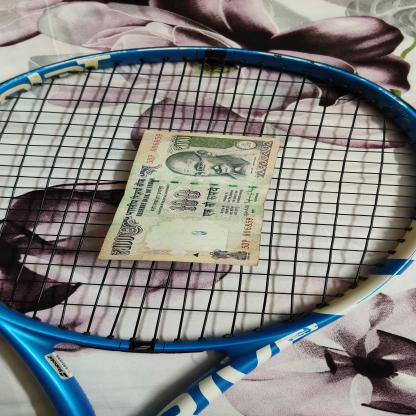Old100Front: (96, 129, 282, 267)
